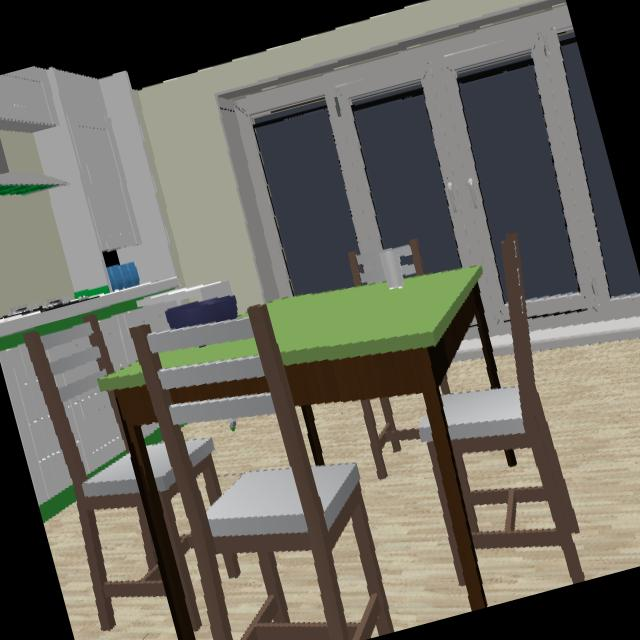cabinet: (0, 66, 136, 289), (0, 347, 71, 494)
chair: (132, 306, 394, 640), (440, 232, 585, 583), (23, 315, 166, 631)
countertop: (0, 276, 180, 352)
stove: (3, 296, 70, 320)
table: (267, 265, 489, 609), (98, 364, 198, 640)
